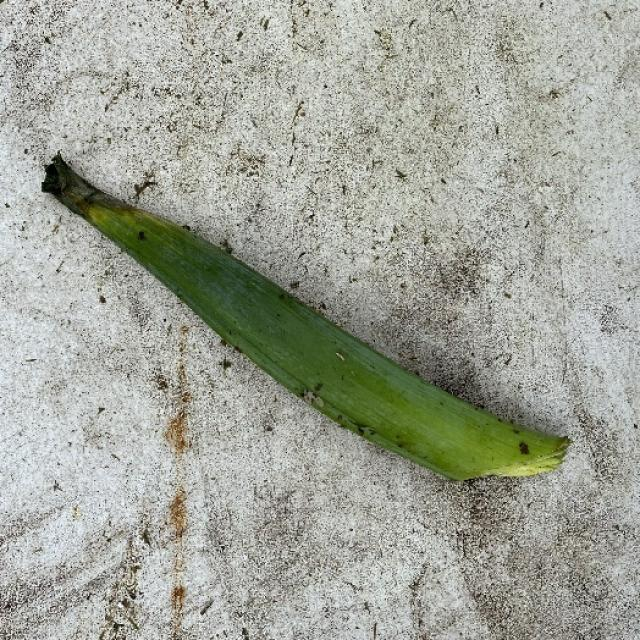organik: (42, 148, 566, 492)
